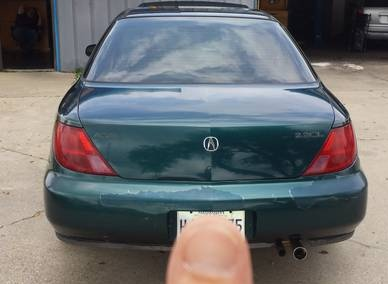acura: (50, 2, 371, 216)
